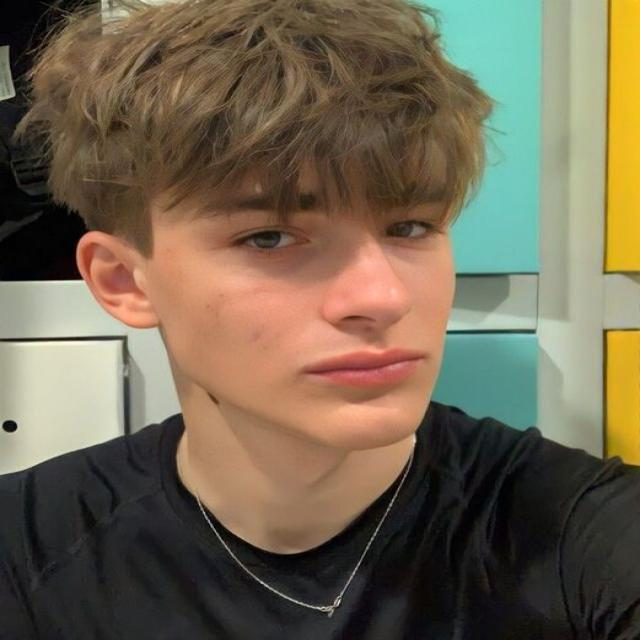Nonhelmet: (41, 5, 499, 458)
